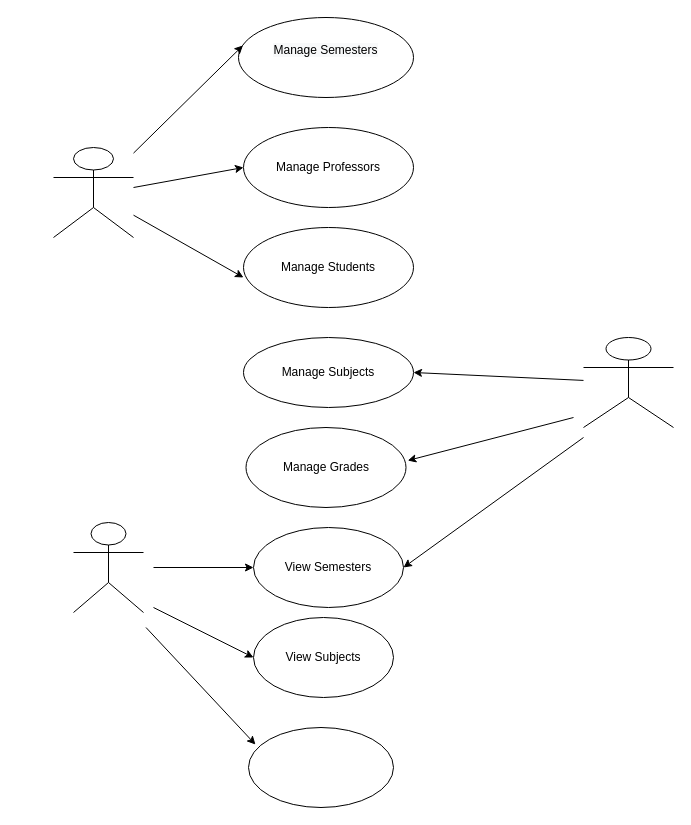
Image size: 691x825. Some labels were removed from this diagram. Each missing label, with the centre of its shape:
"Admin" goes at pixel 93 192.
"Professor" goes at pixel 628 382.
"Student" goes at pixel 108 567.
"View Grades" goes at pixel 321 767.
